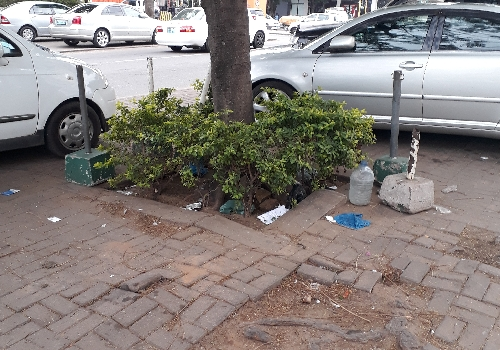trash: (324, 155, 391, 232), (221, 195, 292, 231), (183, 160, 209, 216), (431, 179, 463, 218), (41, 209, 66, 228), (3, 183, 20, 199), (477, 151, 492, 164)
